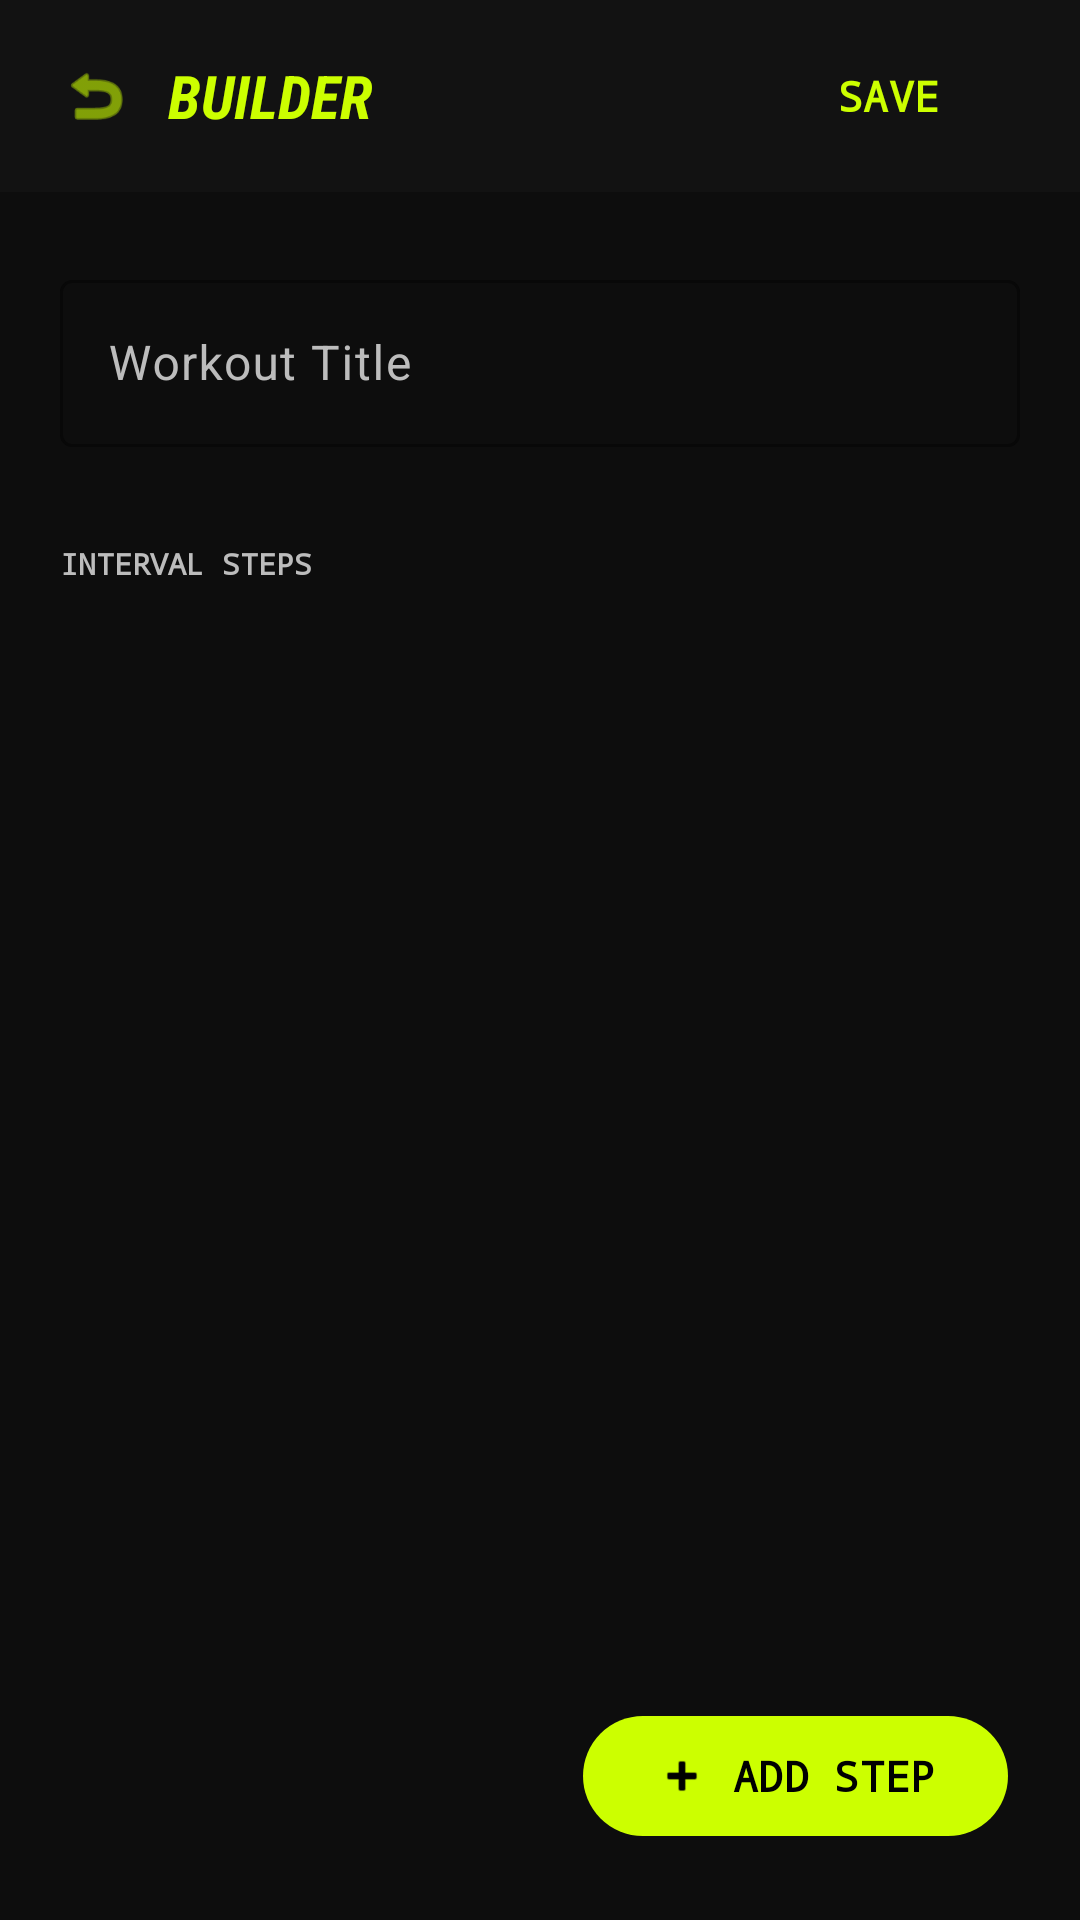

Icons on this 1080px×1920px Android screen, each with its box as (x1,y1,x2,y2):
Back: (71,73,123,120)
